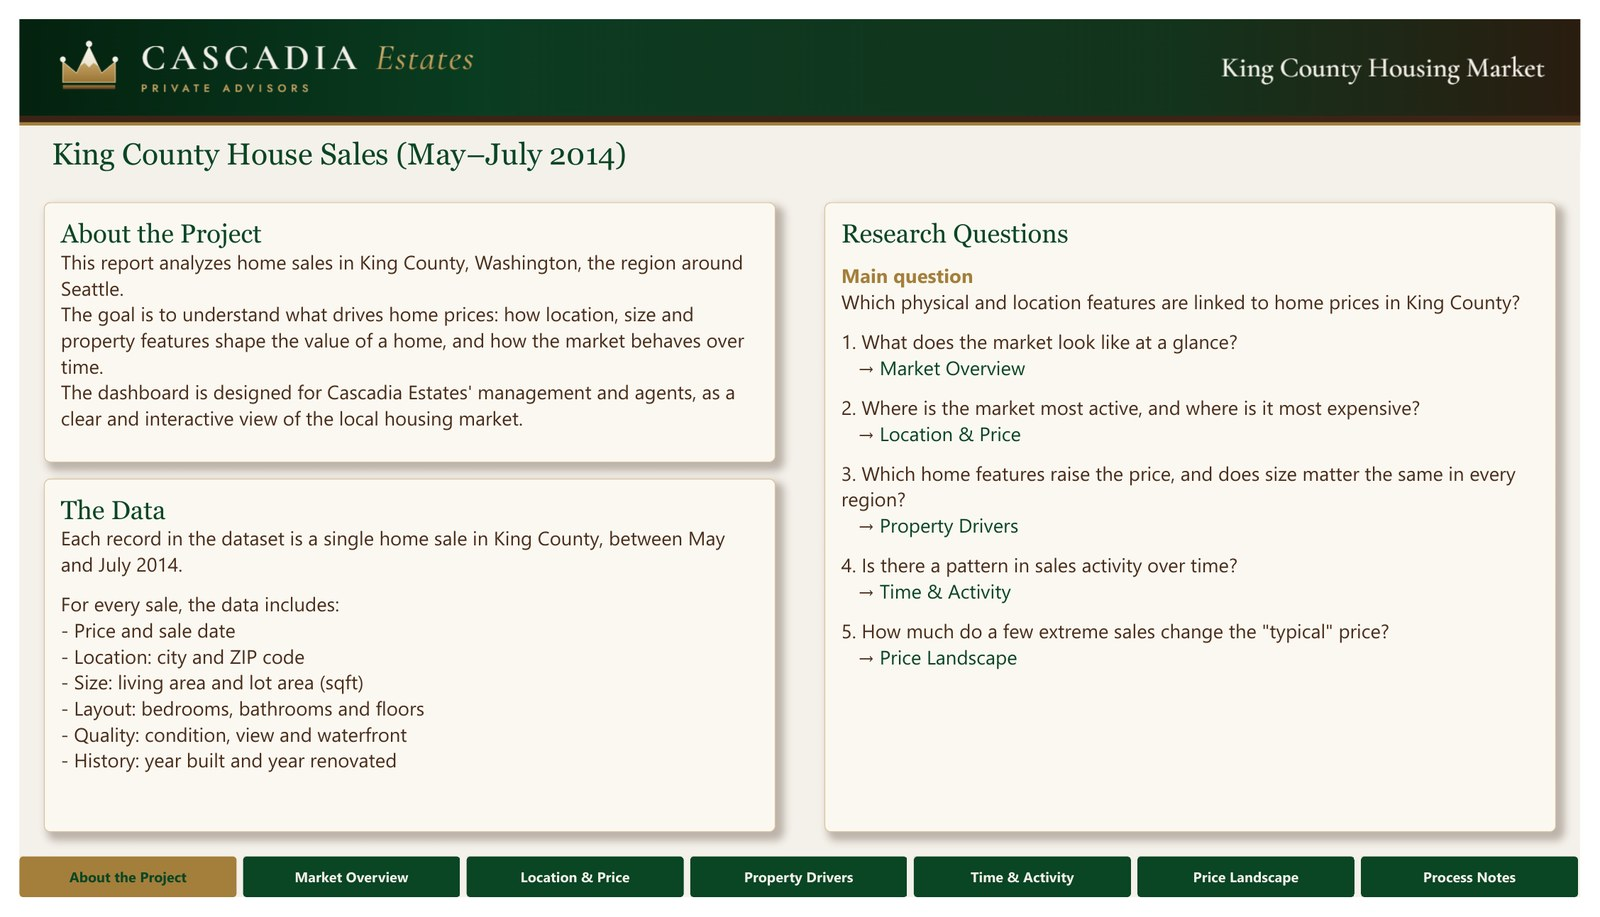

What the dashboard file says about the page in this screenshot:
{"tool":"powerbi","page":{"name":"About the Project","canvas":[1920,1080],"ordinal":0},"visuals":[{"type":"image","box":[0,0,1919.6,130.4],"z":0},{"type":"pageNavigator","box":[0,1030,1920,50],"z":1000},{"type":"textbox","box":[30,145,900,70],"z":2000},{"type":"textbox","box":[30,225,900,320],"z":3000},{"type":"textbox","box":[30,565,900,435],"z":4000},{"type":"textbox","box":[990,225,900,775],"z":5000}]}

Visuals, with their boxes in screenshot pixels (x1, y1, x2, y2), scaled from the page's 1920x1080 canvas onto the 1600x917 screenshot:
image: [left=0, top=0, right=1599, bottom=111]
pageNavigator: [left=0, top=875, right=1599, bottom=916]
textbox: [left=25, top=123, right=775, bottom=183]
textbox: [left=25, top=191, right=775, bottom=463]
textbox: [left=25, top=480, right=775, bottom=849]
textbox: [left=825, top=191, right=1575, bottom=849]
